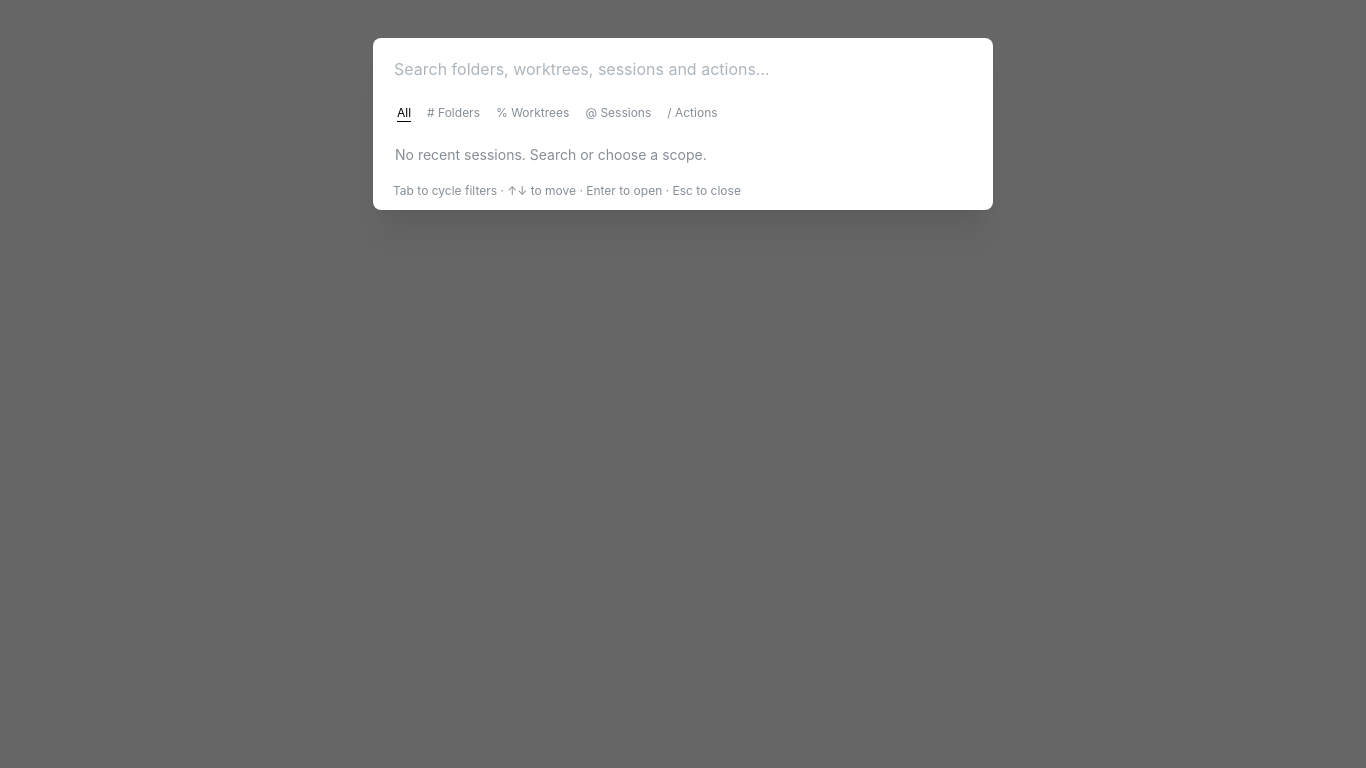
Test: offers search or scopes when folders exist but no recent sessions are available
Expected: the text "No recent sessions. Search or choose a scope." is shown, [395, 146, 707, 163]
Type "#" into the field. click: (683,69)
box: [383, 48, 983, 90]
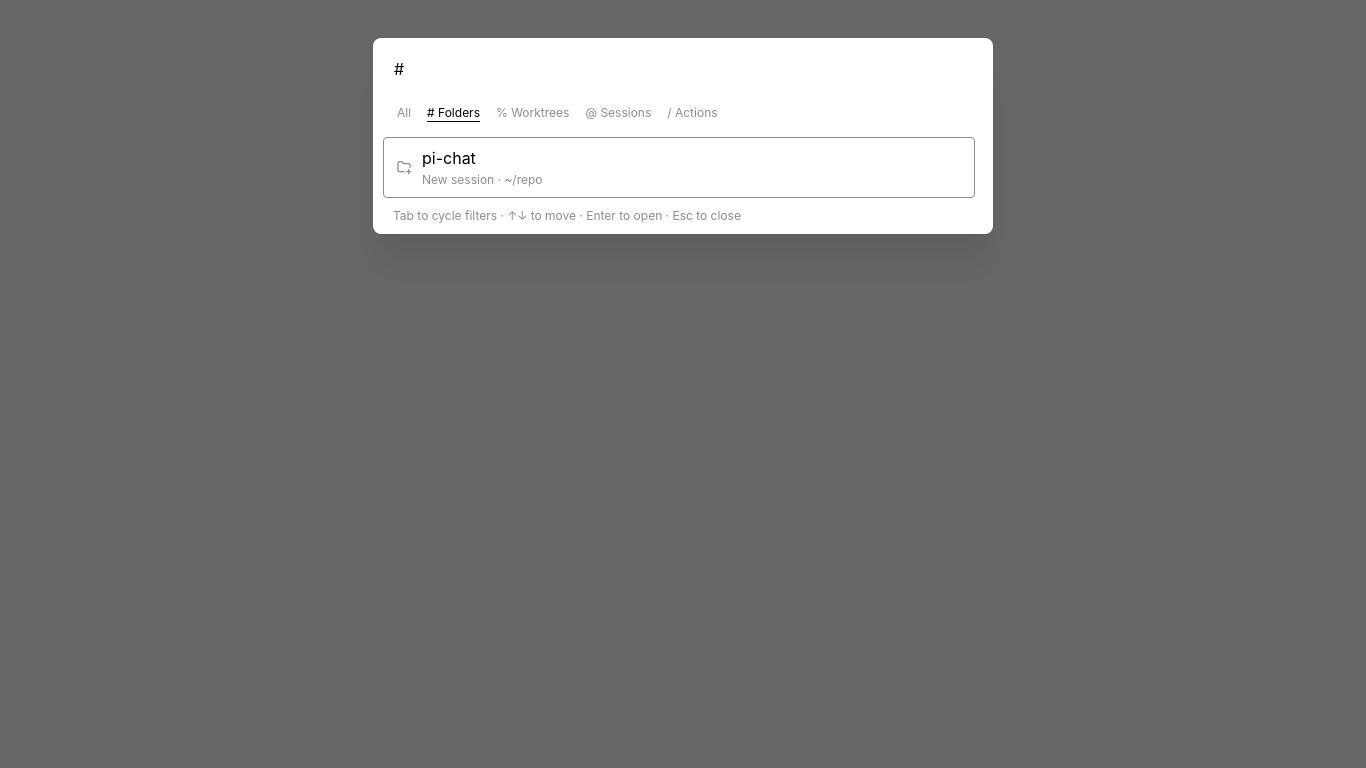
Now the number of options is 1, box [383, 137, 975, 198]
